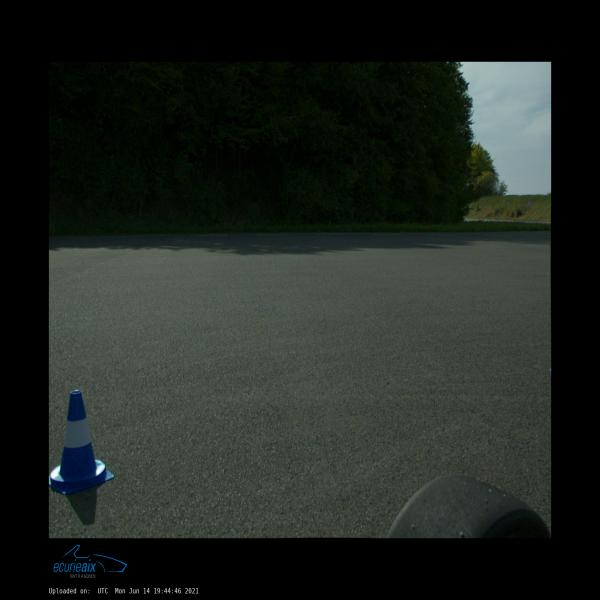blue_cone: (49, 390, 115, 494)
